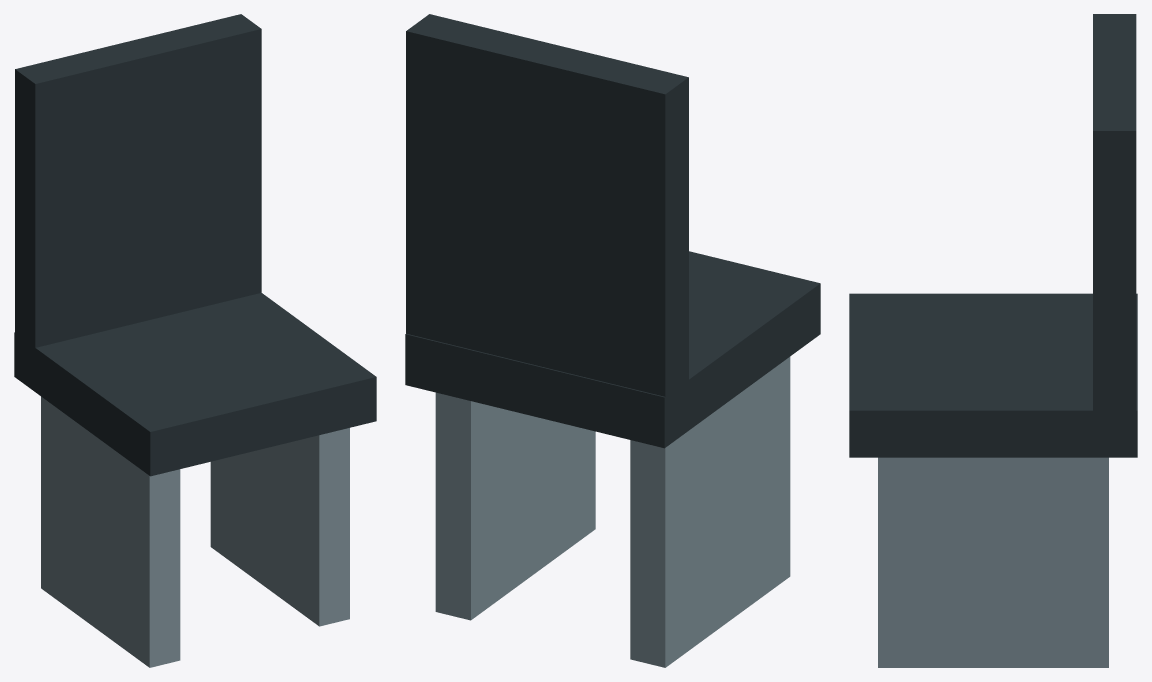
The model's file is Interior_Chair.glb.
3 views of the same model, side by side, from view 1: azimuth 30°, elevation 25°; view 2: azimuth 150°, elevation 25°; view 3: azimuth 270°, elevation 25° (orthographic). The views are drawn at different scales.
Parts seen in each view (by area): view 1: Interior_Chair; view 2: Interior_Chair; view 3: Interior_Chair.
Part boxes in pixels (x1=…): Interior_Chair: x1=14, y1=14, x2=376, y2=667; Interior_Chair: x1=405, y1=14, x2=820, y2=667; Interior_Chair: x1=849, y1=14, x2=1137, y2=667.
Bounding box in the file's own units: 0.48 × 1.04 × 0.5.
